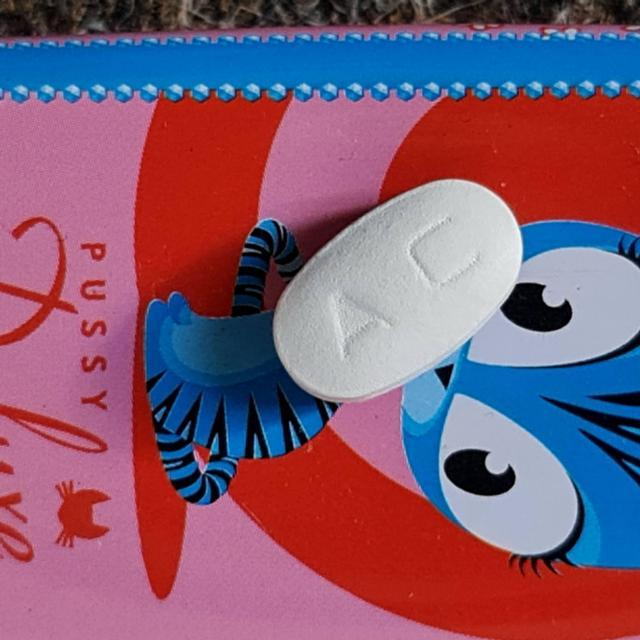pill: (278, 180, 518, 401)
